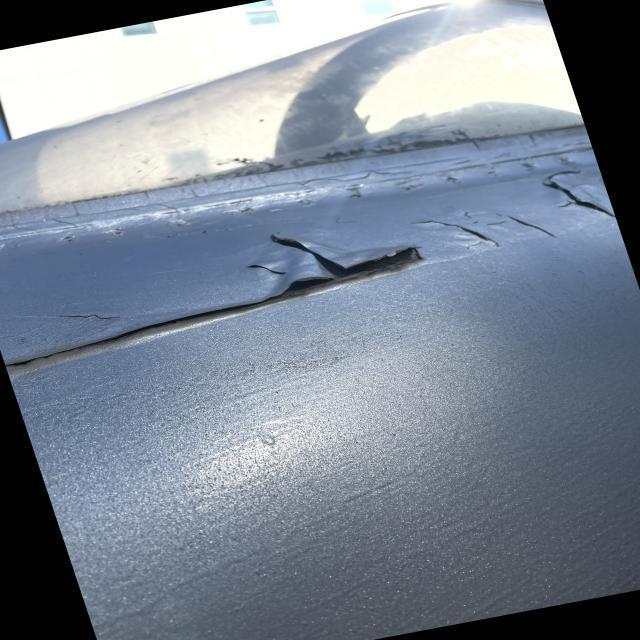crack: (422, 217, 570, 248), (41, 307, 127, 322), (250, 262, 295, 278)
